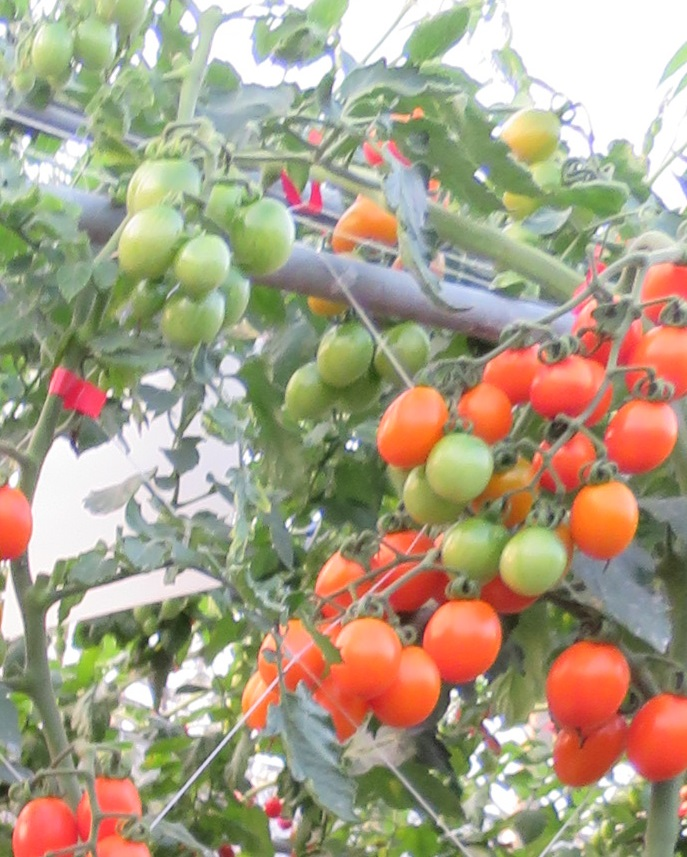green: (228, 193, 294, 285), (118, 147, 214, 209), (120, 201, 185, 282), (497, 525, 570, 597), (425, 438, 494, 509), (169, 231, 239, 297), (159, 289, 230, 353), (442, 521, 512, 585), (313, 318, 377, 386), (375, 324, 435, 386), (281, 364, 333, 427), (494, 114, 569, 157), (28, 21, 73, 78), (77, 14, 118, 72)
orange: (544, 639, 630, 738), (369, 647, 447, 734), (322, 617, 404, 699), (371, 384, 450, 468), (424, 603, 505, 684), (599, 398, 678, 478), (624, 685, 687, 785), (259, 612, 332, 696), (573, 478, 638, 567), (528, 349, 604, 422), (74, 773, 148, 846), (374, 535, 441, 607), (630, 316, 687, 398), (479, 339, 553, 401), (530, 429, 600, 492), (310, 548, 376, 611), (334, 202, 405, 252), (457, 383, 516, 442), (1, 485, 34, 564)
red: (7, 793, 82, 857)
